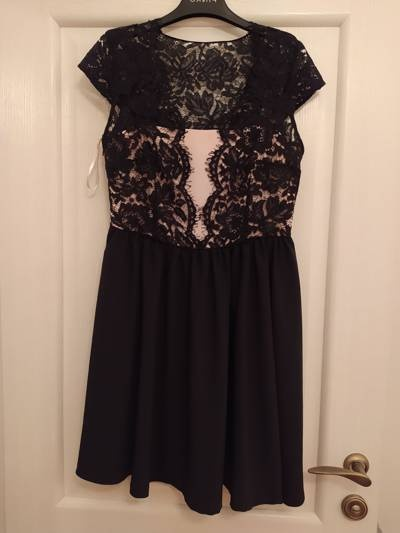Dress: (56, 18, 355, 492)
